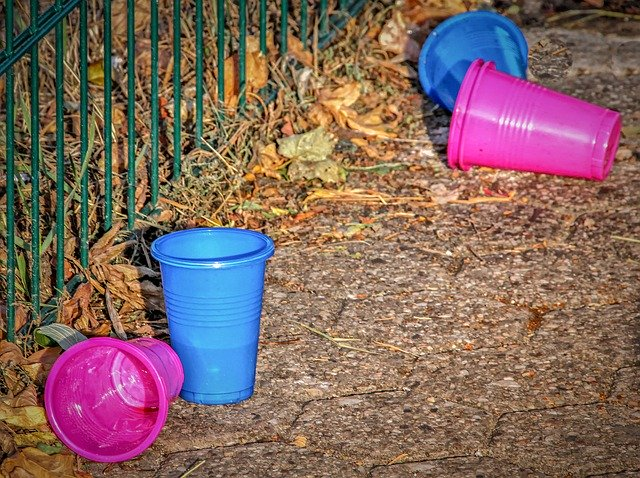cup: (430, 55, 625, 192), (148, 220, 275, 408), (28, 323, 187, 466), (414, 5, 543, 117)
